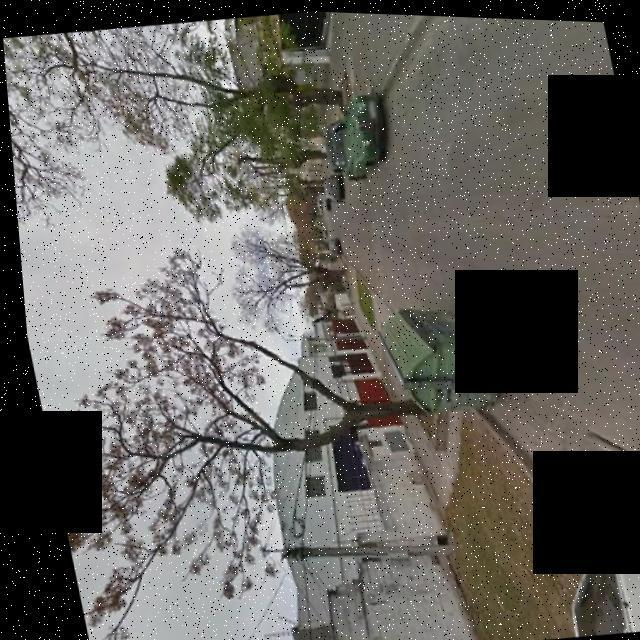bin: (350, 271, 530, 434)
